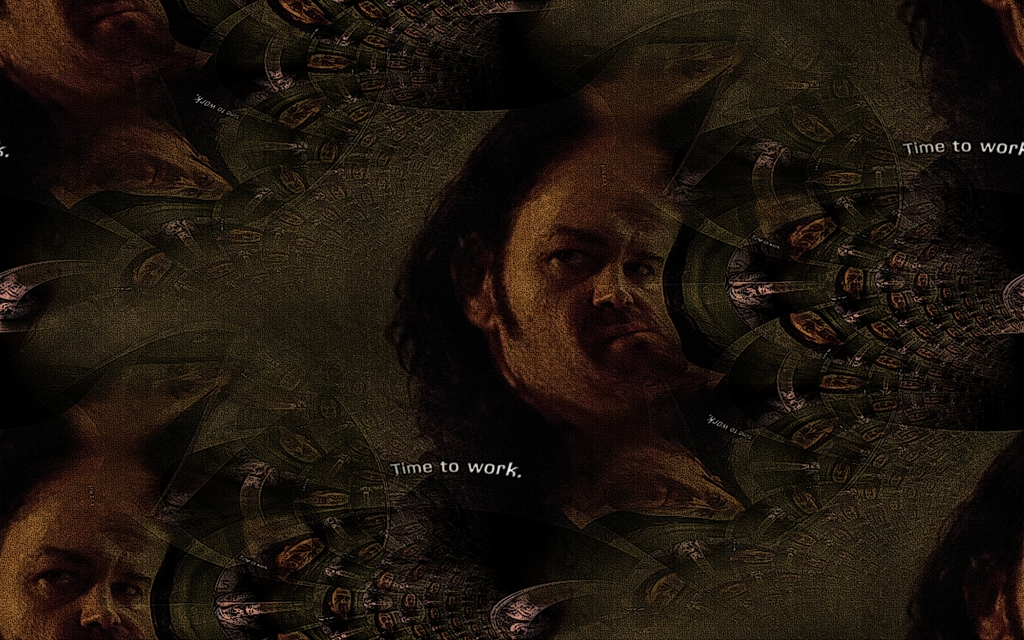face: (504, 126, 696, 434)
